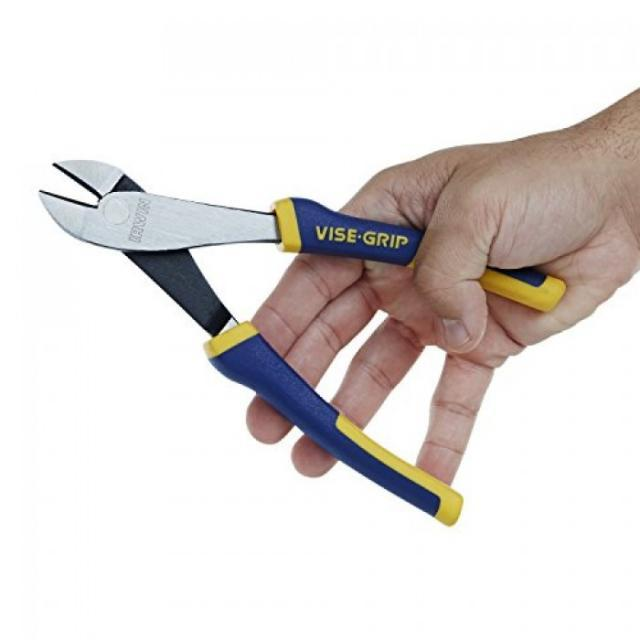pliers: (35, 152, 570, 530)
